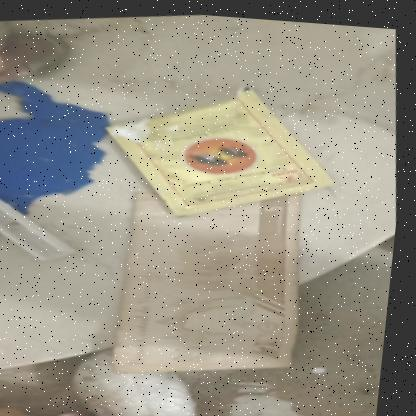five-back-vef: (99, 171, 322, 382)
